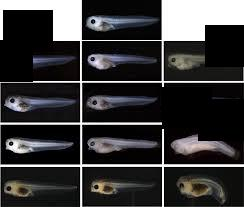fish: (5, 132, 77, 165), (86, 85, 161, 116), (5, 174, 78, 204), (84, 131, 160, 158), (166, 91, 243, 116), (86, 10, 161, 33), (87, 177, 158, 198), (83, 7, 113, 34), (166, 89, 191, 116), (85, 90, 110, 116), (2, 177, 27, 201), (6, 136, 28, 158)
